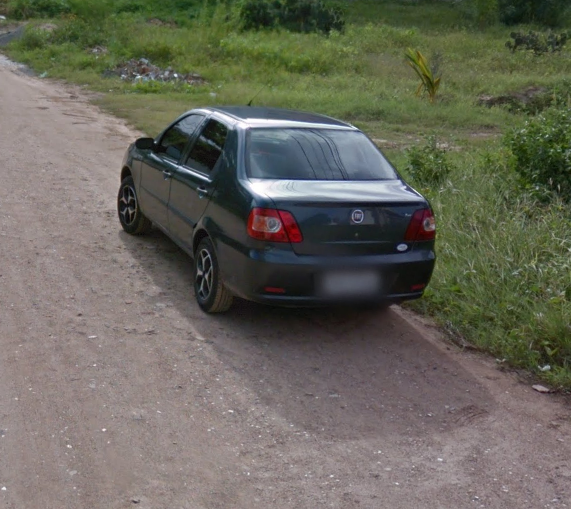car: (116, 78, 440, 322)
